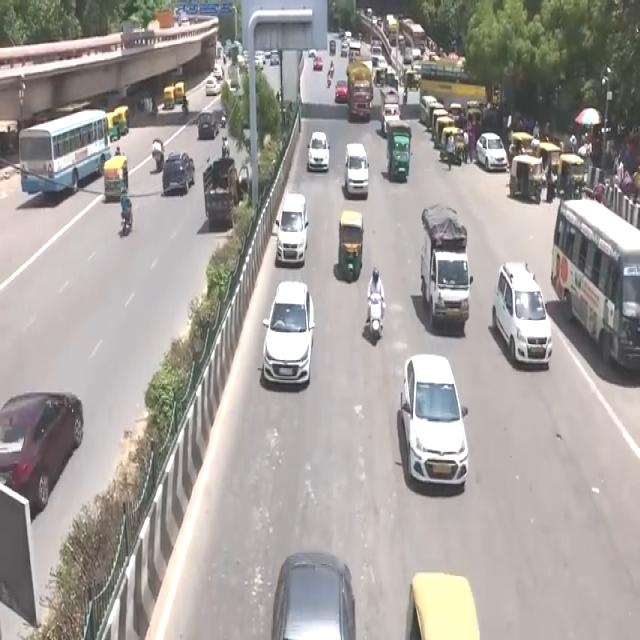BUS: (550, 200, 639, 382), (20, 109, 111, 205)
MOTORCYCLE: (367, 292, 383, 350)
TRUCK: (421, 210, 472, 336), (348, 58, 374, 120)
